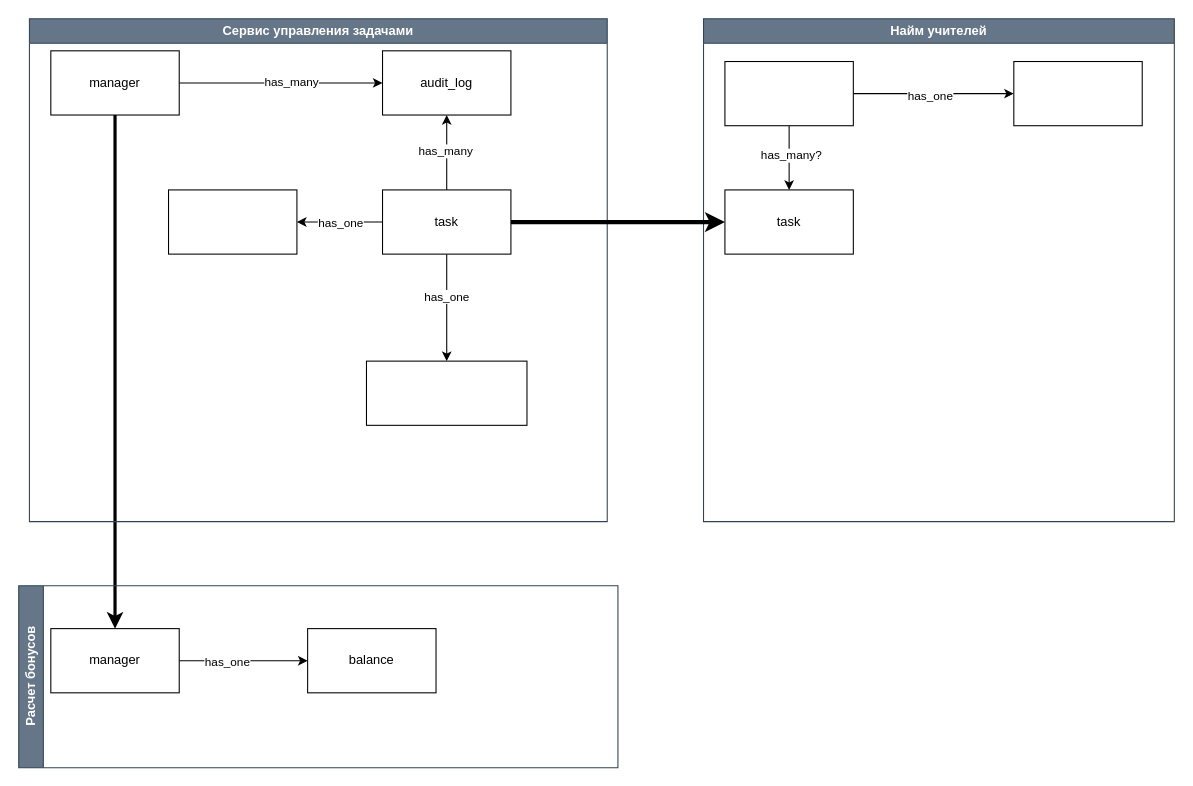
Some shapes in this 1193 by 786 pixel diagram are drawn without their labels. The shapes that lost their labels are listed below. From the top down, each one's centre as x and y in pixels, then its label:
At point (788, 93): "candidate".
At point (1077, 93): "passed (already teacher/candidate)".
At point (232, 221): "rating".
At point (446, 392): "state (need to improve or not)".
